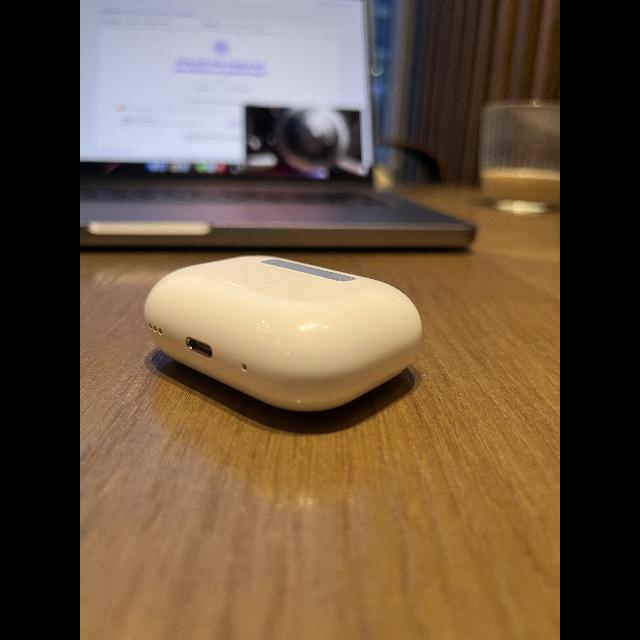AirPods Pro: (140, 249, 426, 436)
